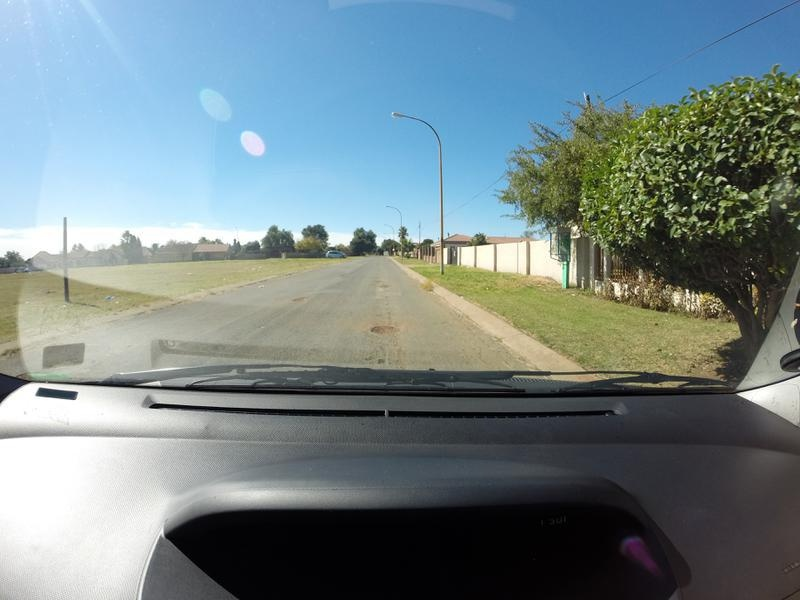pothole: (367, 323, 398, 334), (291, 294, 309, 307), (377, 282, 387, 292), (370, 358, 389, 363)
